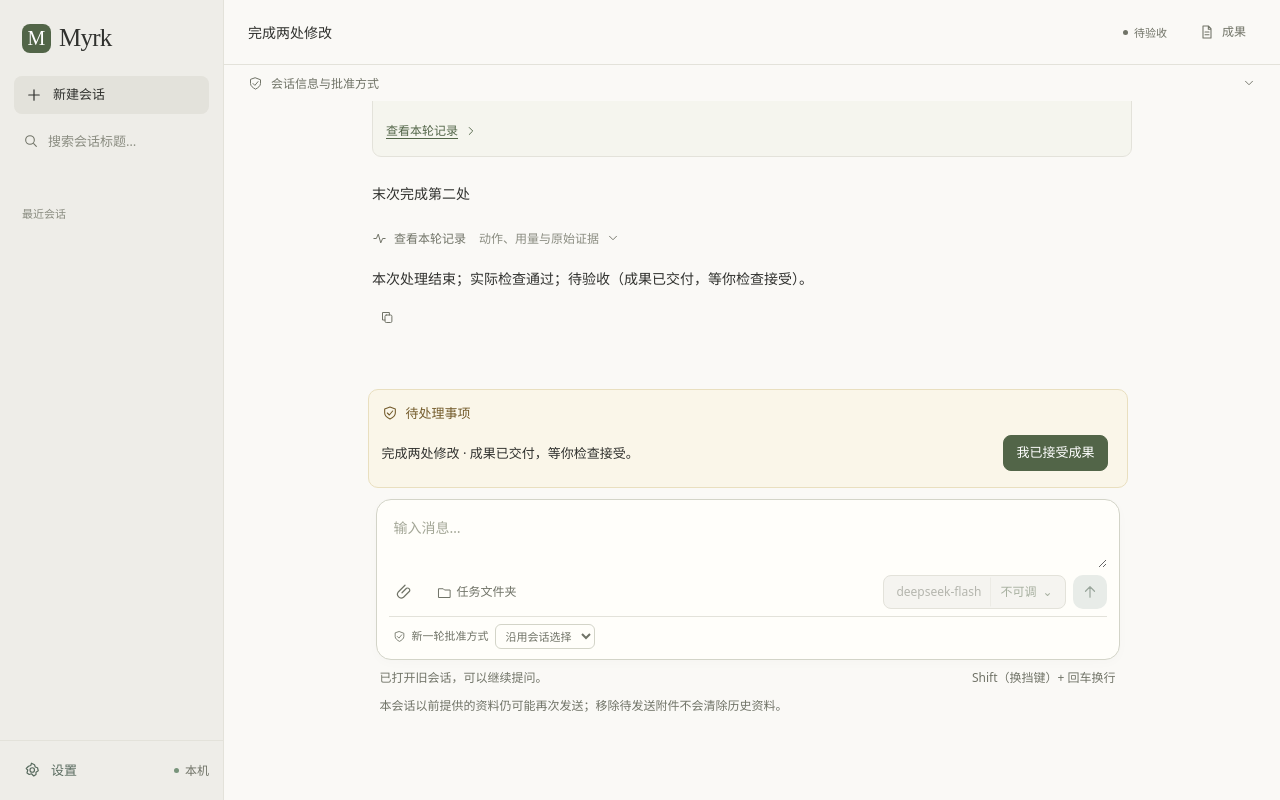
Test case: accepting resumed work preserves partial answers, failures and actions; later failure=false
(page scrolled)
Click the button "我已接受成果" at (1056, 453), box [1004,435,1108,471]
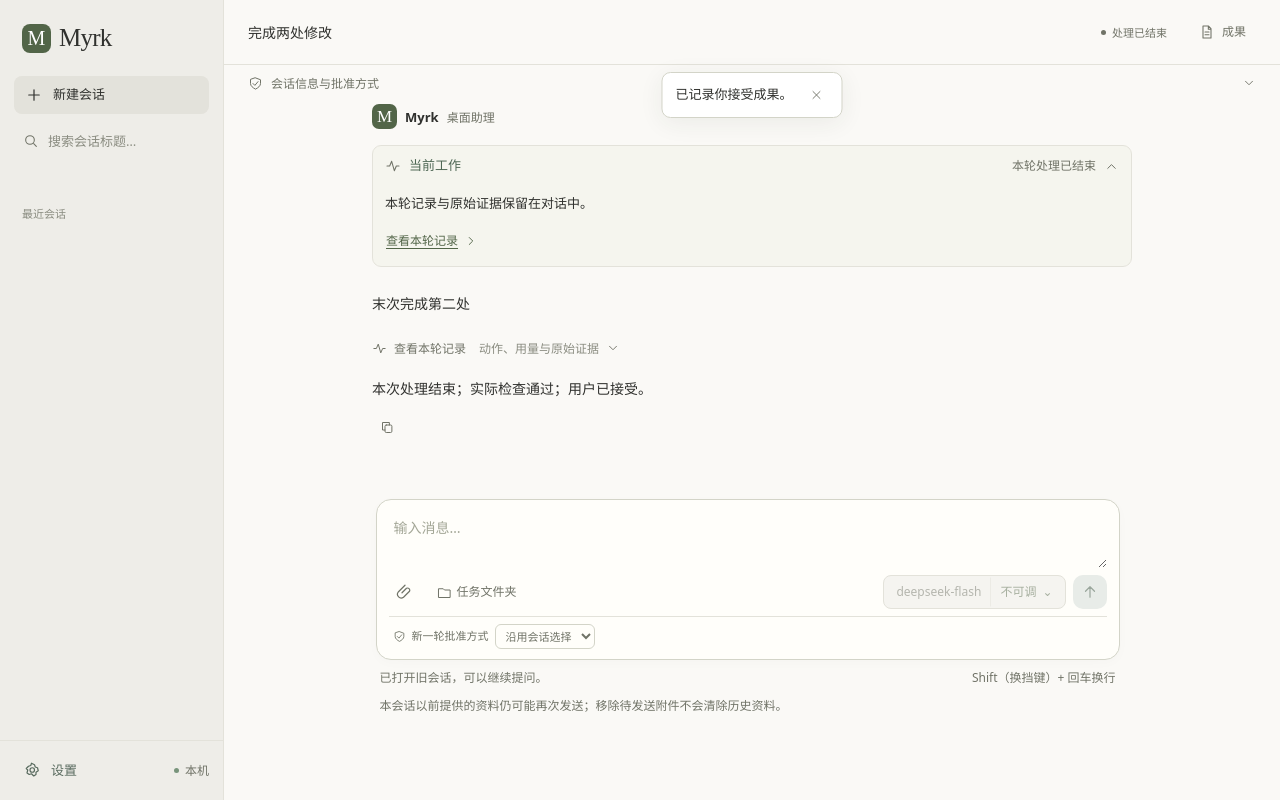
expect the element named "Myrk 的回答" does not show "末次完成第二处": met
expect the element named "Myrk 的回答" shows "用户已接受": met, box [568,379,638,398]
